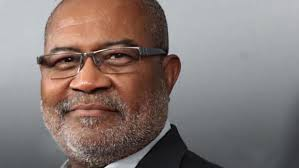black_male: (31, 1, 176, 157)
